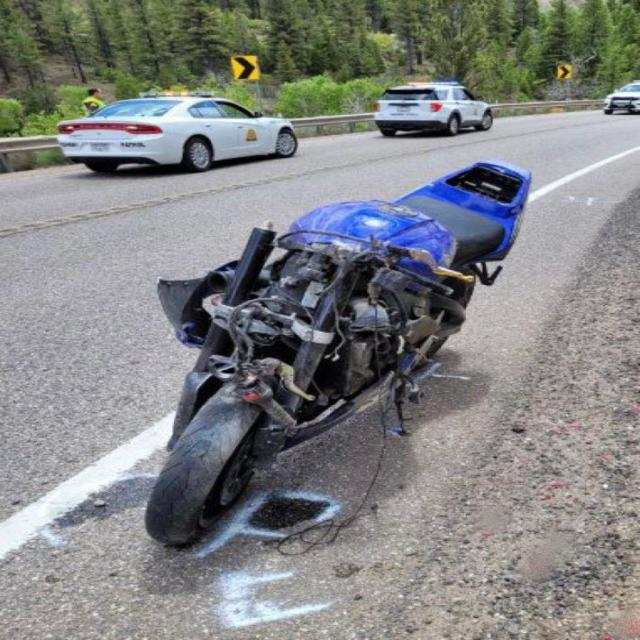accident: (146, 160, 532, 546)
car: (58, 96, 297, 172), (373, 82, 494, 136)
